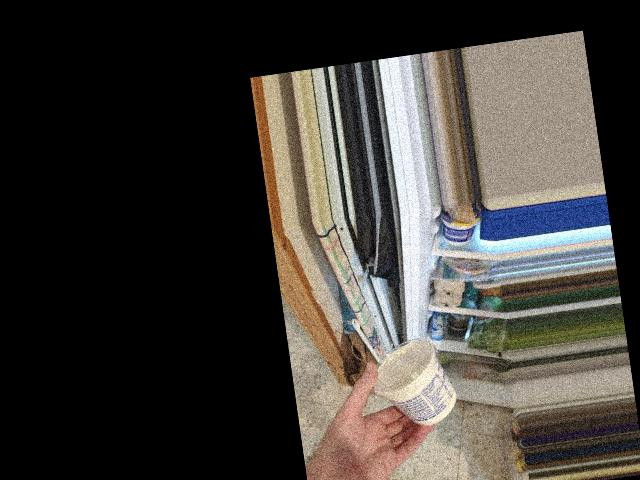cotage: (372, 332, 455, 424)
